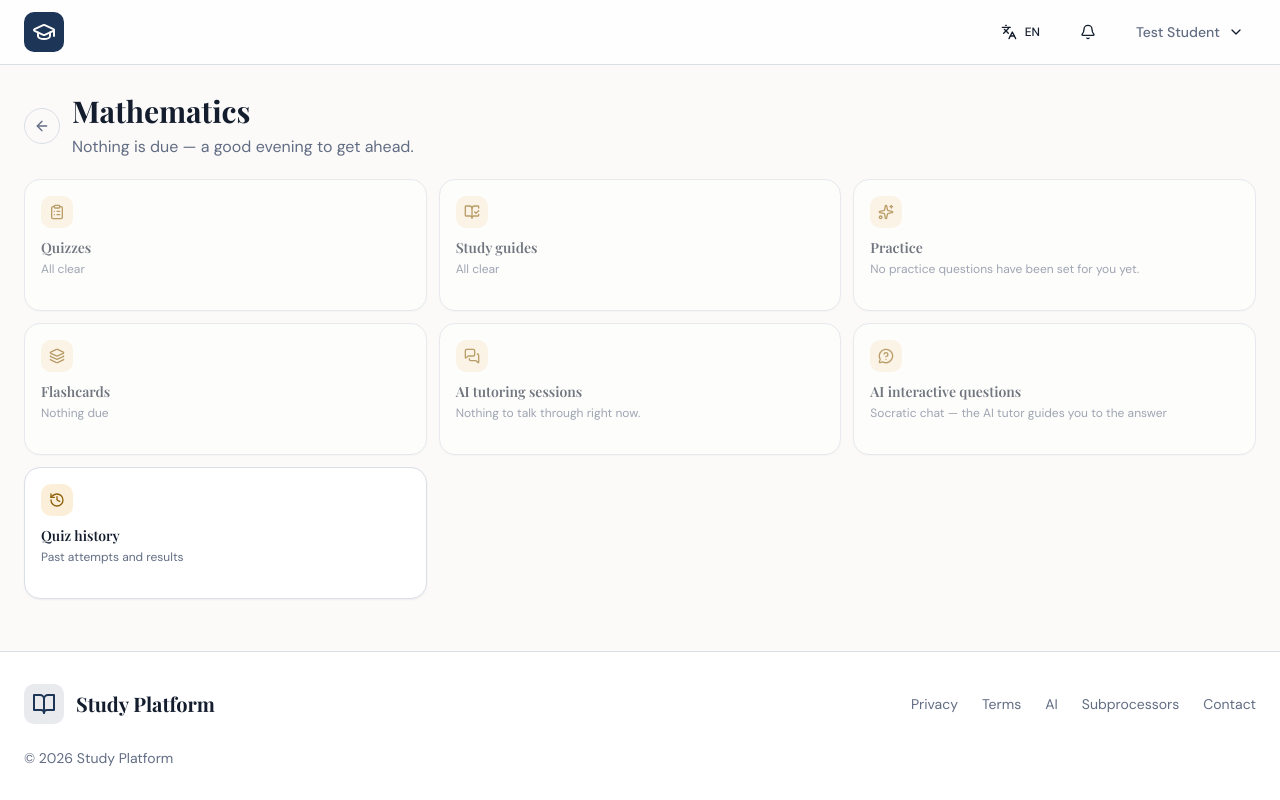
Test: StudentCourse study guides › keeps the option visible, muted, when the student has no guides
Click the button with test id "launcher-guides" at (472, 212), box [439,179,841,311]
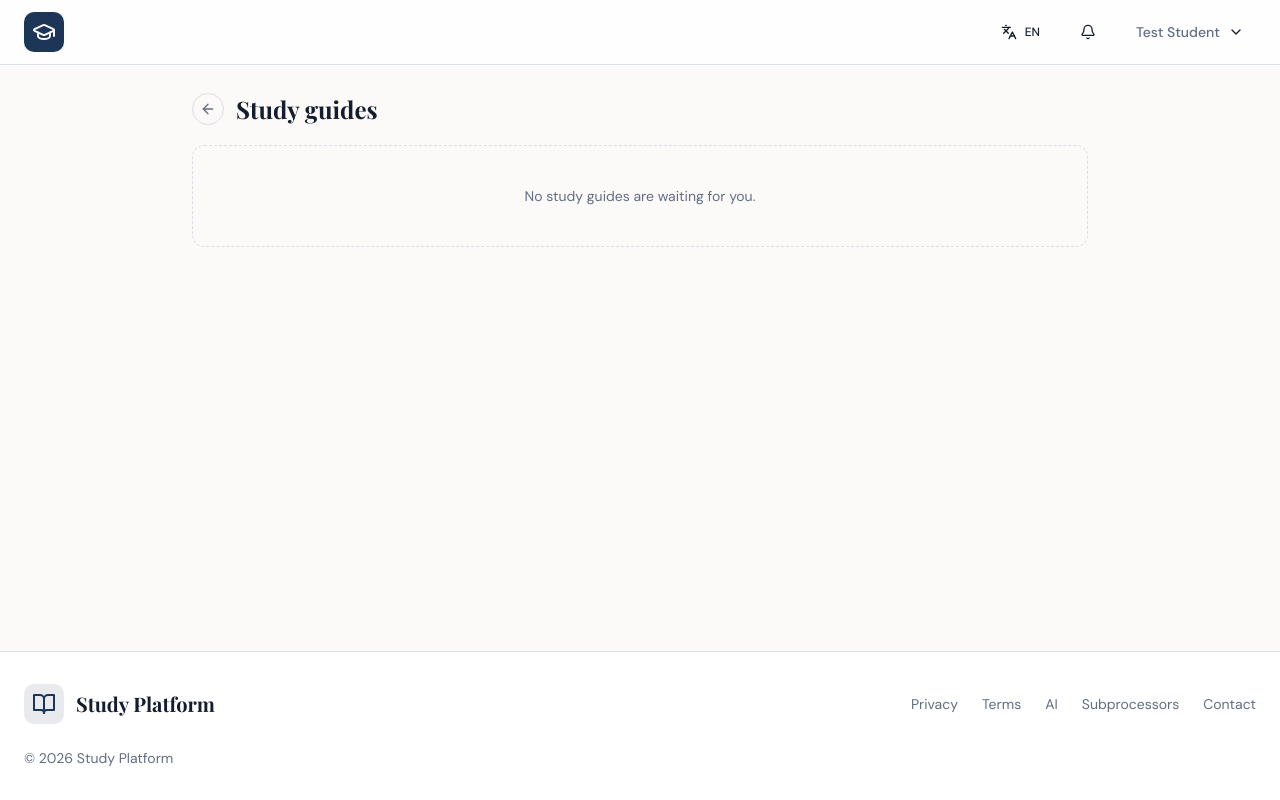
Check: the text "No study guides are waiting for you." is shown, box [192,145,1088,247]
